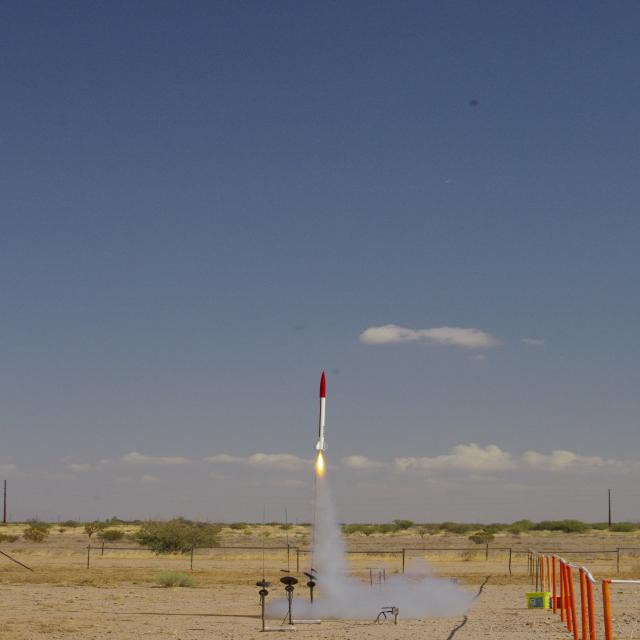Rocket: (314, 370, 329, 451)
